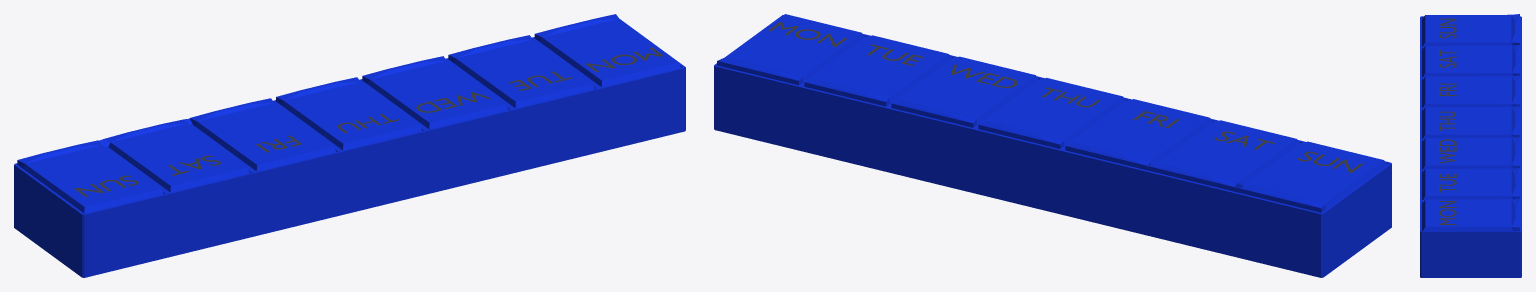
The model's file is Pillbox.fbx.
3 views of the same model, side by side, from view 1: azimuth 30°, elevation 25°; view 2: azimuth 150°, elevation 25°; view 3: azimuth 270°, elevation 25° (orthographic). The views are drawn at different scales.
Parts seen in each view (by area): view 1: Cube; view 2: Cube; view 3: Cube.
Boxes of the visible parts, x1,y1,x2,y2 form: Cube: (14, 14, 685, 277); Cube: (714, 14, 1391, 277); Cube: (1420, 14, 1521, 277).
Size of the model in its own units: 1200 by 132 by 240.
